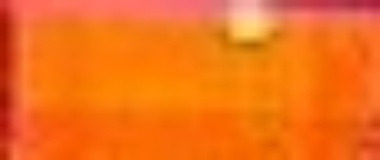Hotspot: (217, 9, 287, 43)
